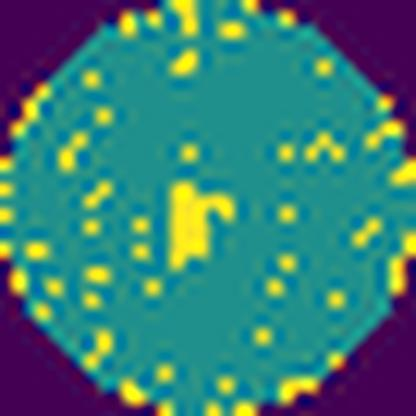Center: (162, 176, 239, 277)
